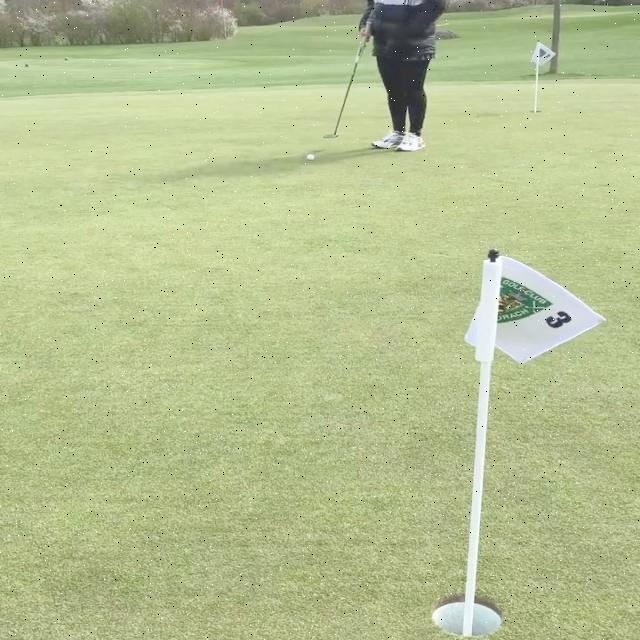golf ball: (306, 154, 314, 161)
golf club-handle: (322, 19, 374, 140)
golf club-head: (324, 133, 340, 138)
